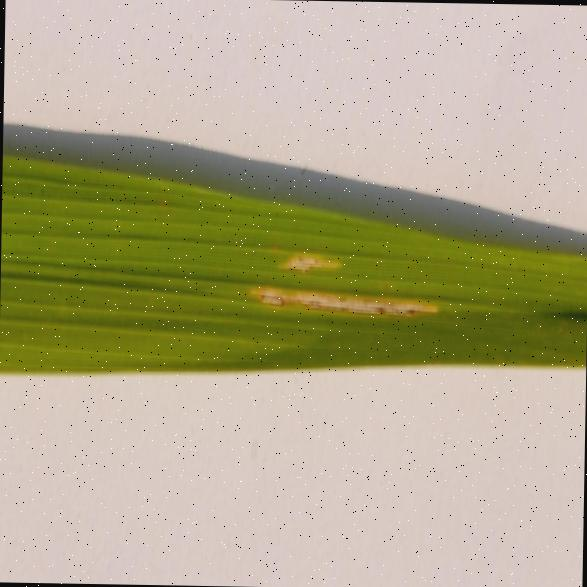Bacteria_Leaf_Blight: (231, 206, 460, 336)
